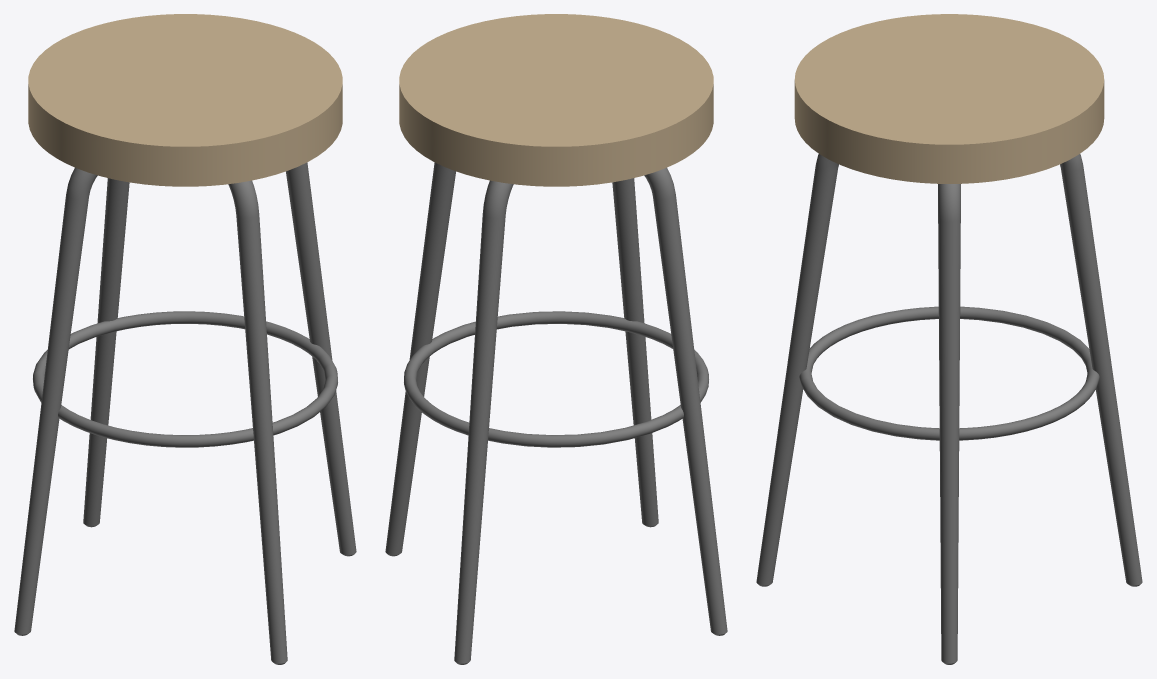
Rendered from 602_スツール.glb.
3 renders of one model, left to right at view 1: azimuth 30°, elevation 25°; view 2: azimuth 150°, elevation 25°; view 3: azimuth 270°, elevation 25°, orthographic.
Visible parts, largest first — view 1: Body; view 2: Body; view 3: Body.
Part boxes in pixels (x1,y1,x2,y2): Body: (14, 14, 356, 664); Body: (385, 14, 727, 664); Body: (756, 14, 1142, 664).
Size of the model in its own units: 0.3119 by 0.45 by 0.3119.
